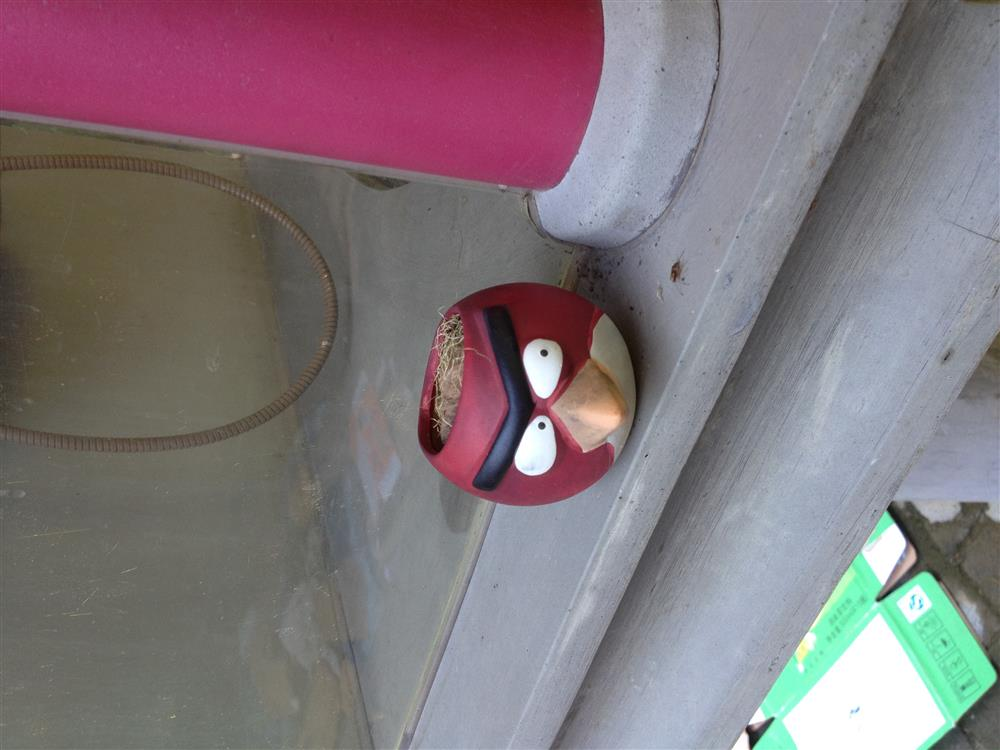flowerpot: (406, 283, 647, 514)
